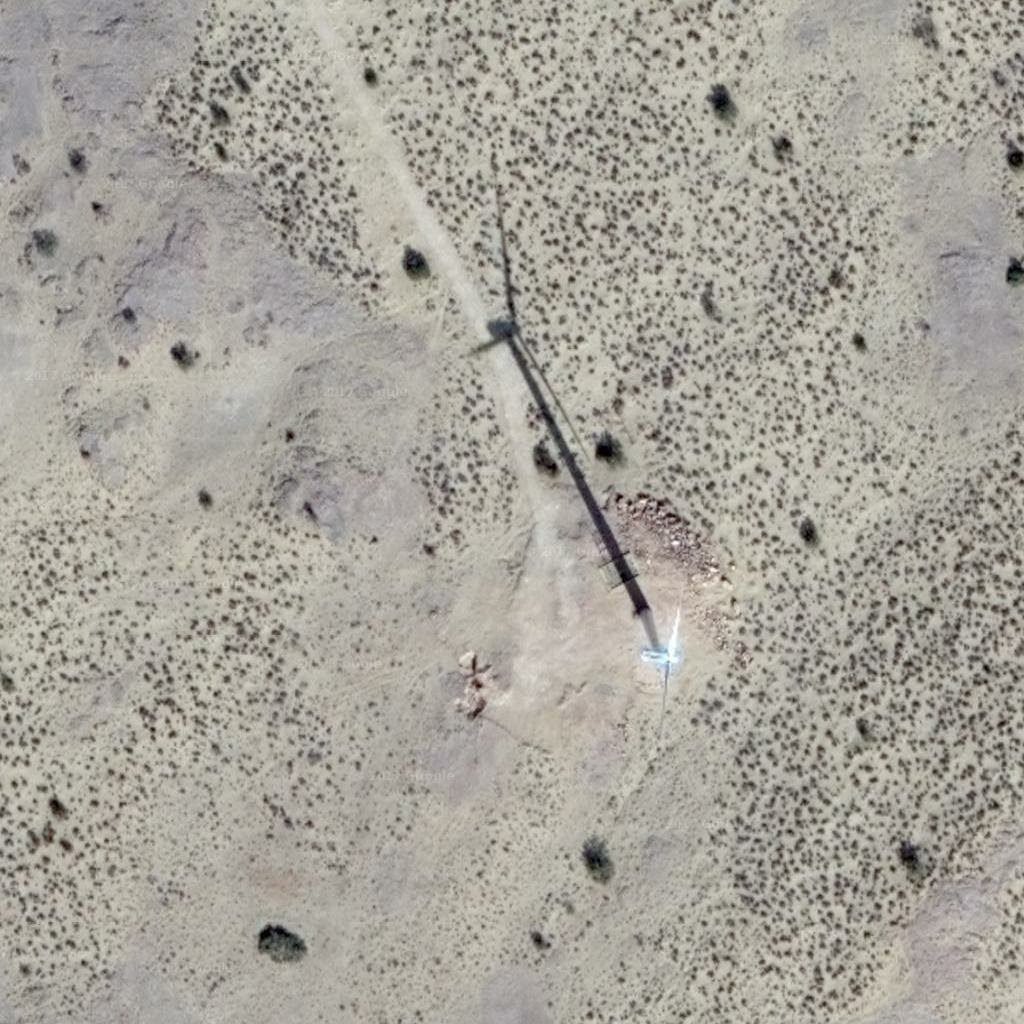Windmill: (436, 218, 657, 610)
